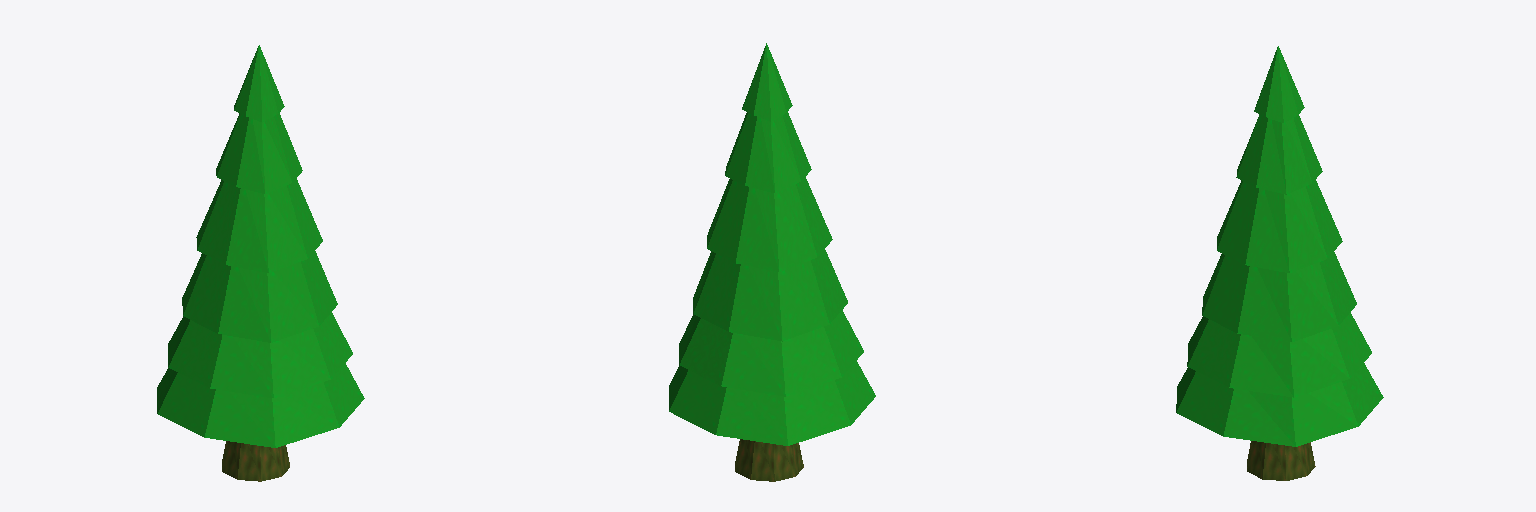
The picture shows the model from 3 angles: view 1: azimuth 30°, elevation 25°; view 2: azimuth 150°, elevation 25°; view 3: azimuth 270°, elevation 25°; orthographic projection.
Visible parts, largest first — view 1: Cylinder; view 2: Cylinder; view 3: Cylinder.
Boxes of the visible parts, box(x1,y1,x2,y2) form: Cylinder: box(157, 45, 364, 481); Cylinder: box(669, 43, 875, 481); Cylinder: box(1176, 46, 1383, 480).
Bounding box in the file's own units: 3.42 × 7.63 × 3.38.
1 materials, 1 textured.